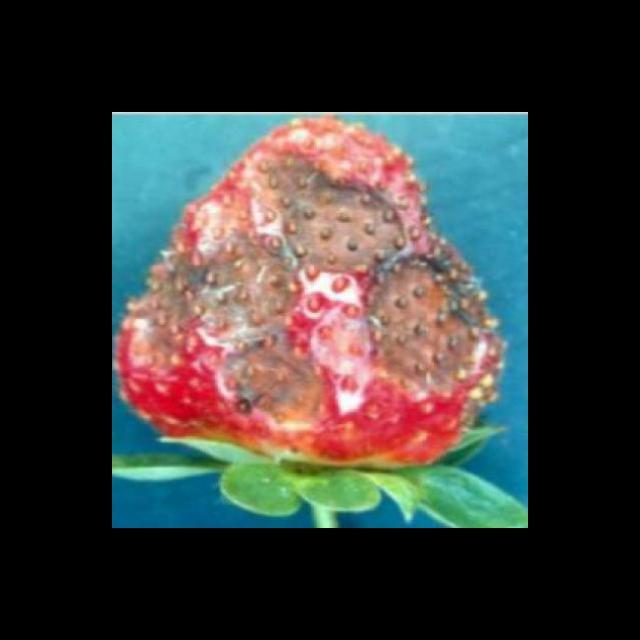Anthracnose Fruit Rot: (114, 144, 502, 436)
